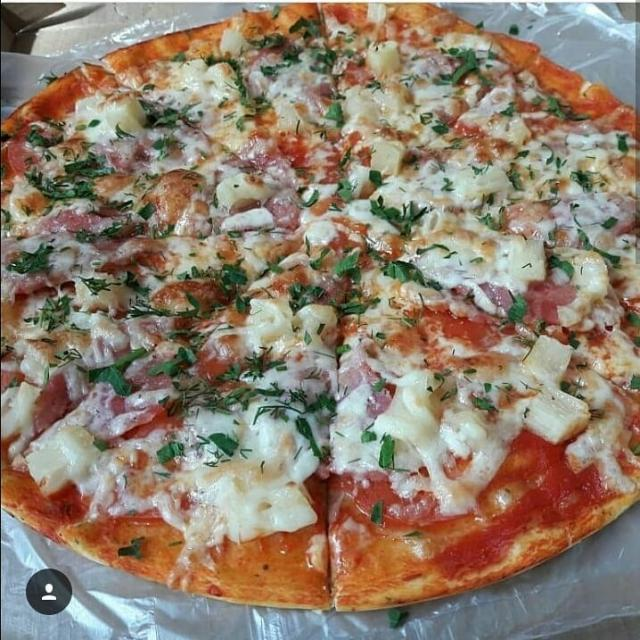pizza: (1, 0, 640, 615)
